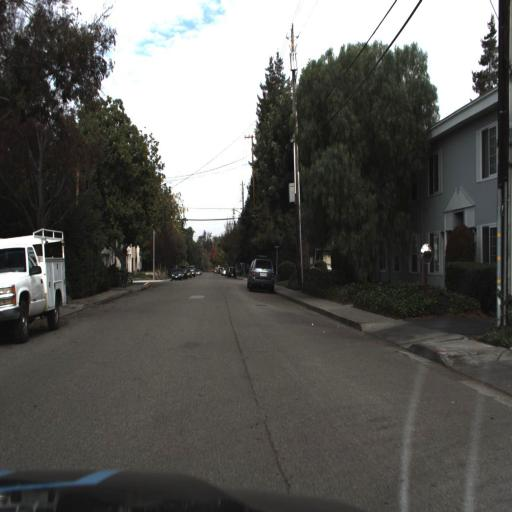car: (247, 253, 277, 297), (170, 265, 185, 284)
truck: (0, 227, 68, 346)
